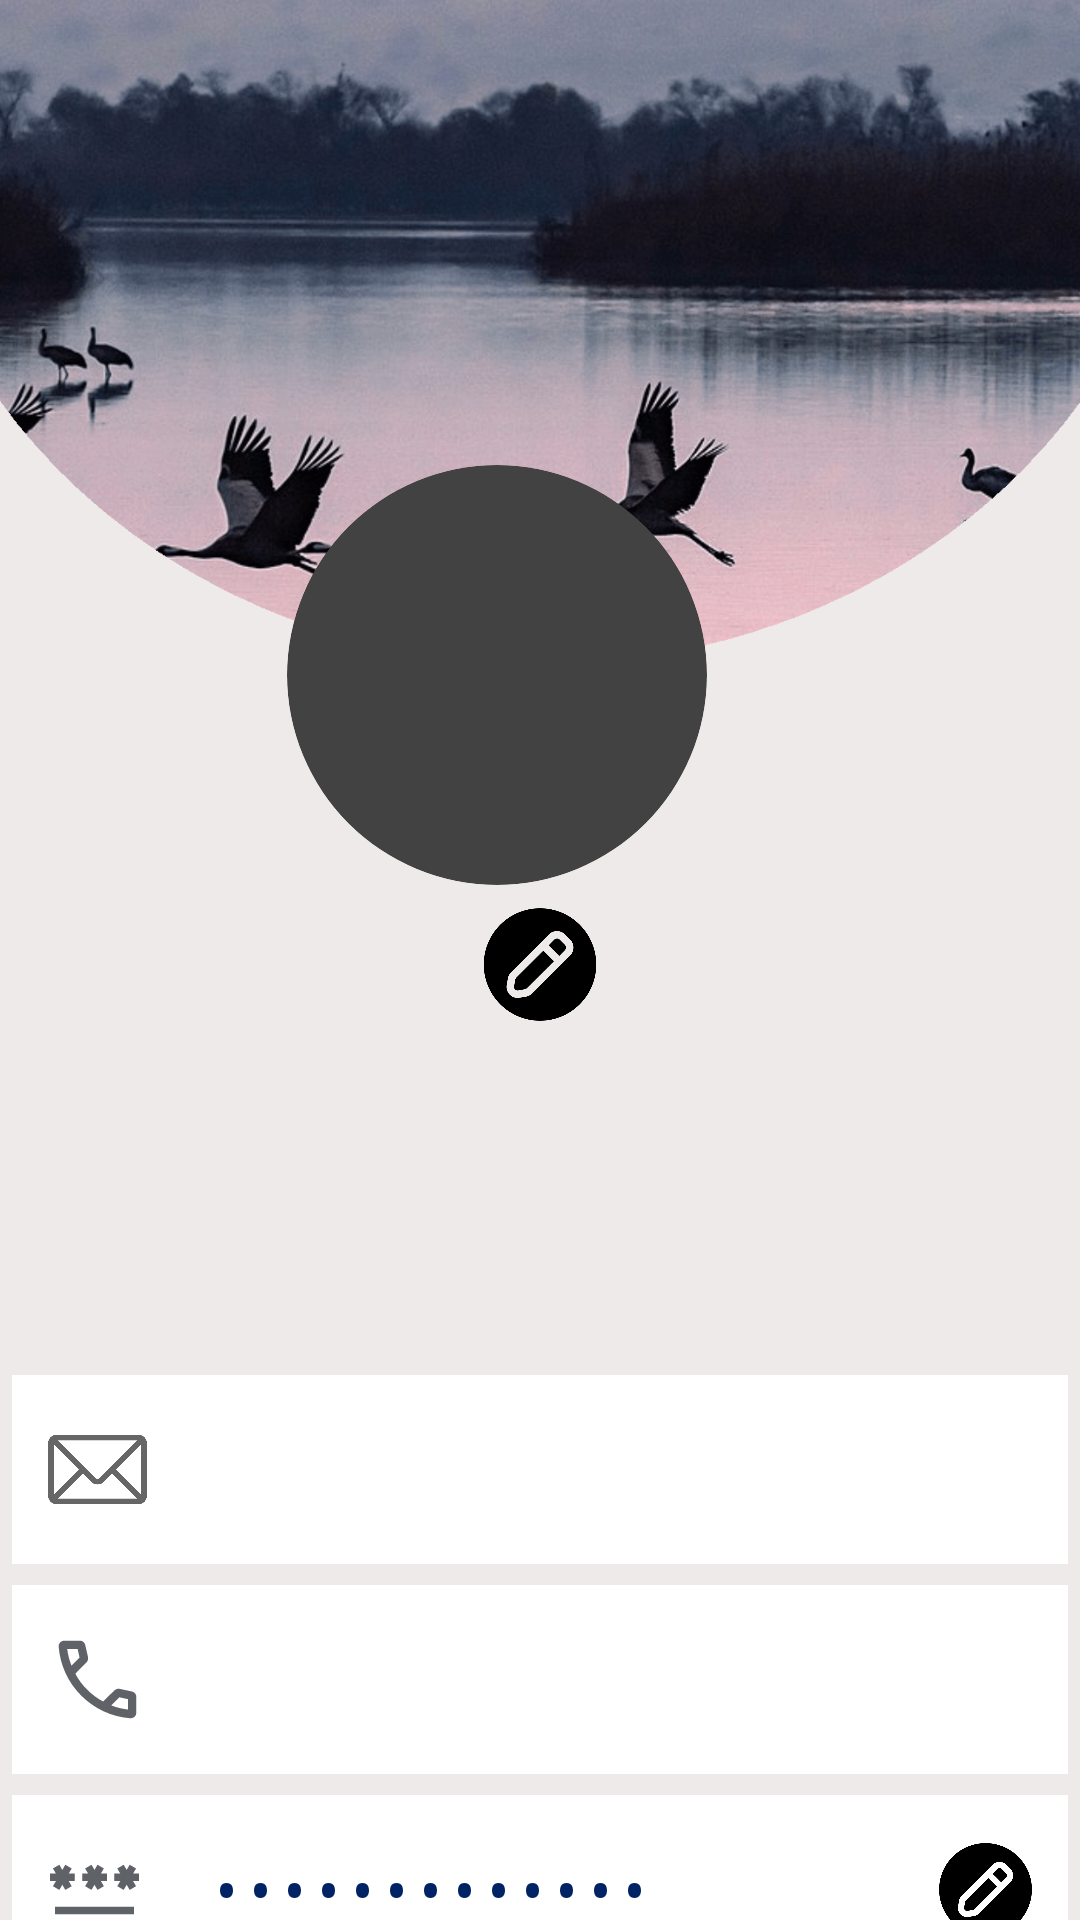

Where icons sit on this 1080w x 1920h app screen, as (x1, y1, x2, y2):
email freepic: (48, 1435, 147, 1504)
phone number: (58, 1640, 137, 1719)
